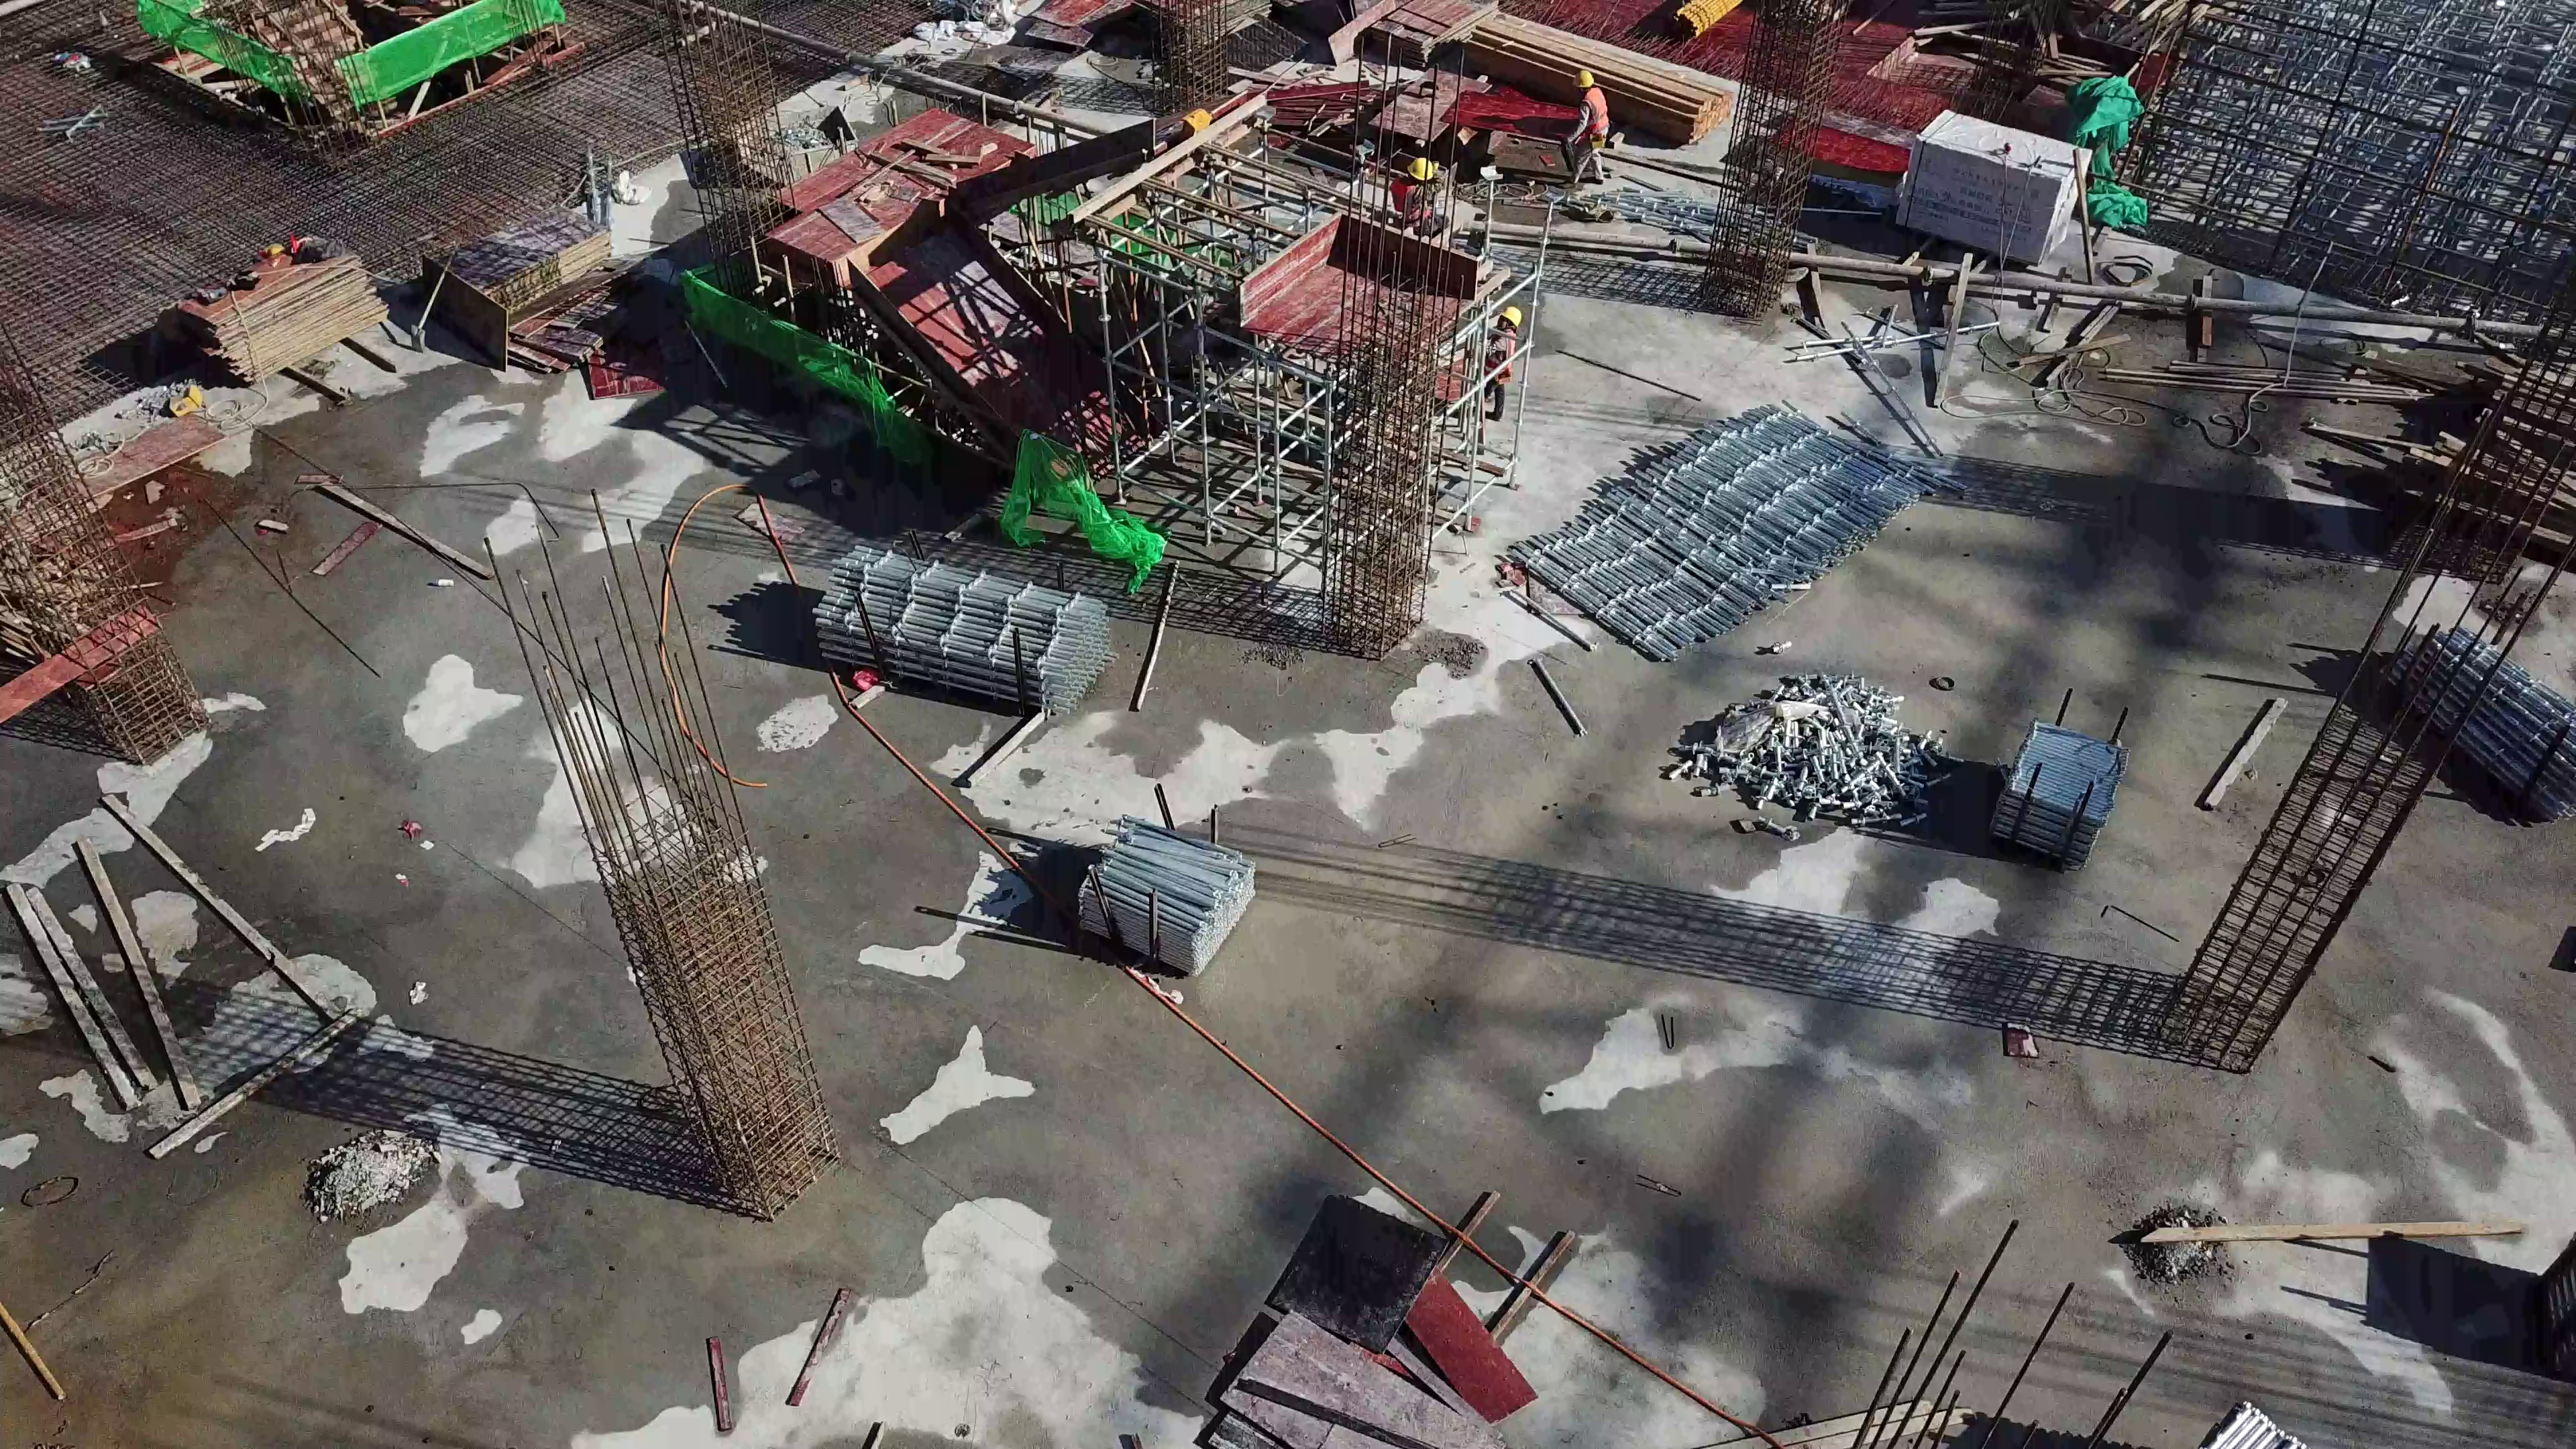board: (166, 246, 385, 407), (429, 211, 618, 377)
person: (1575, 62, 1619, 191), (1388, 150, 1444, 219), (1490, 301, 1525, 409)
scaffold: (1531, 389, 1942, 657), (799, 552, 1111, 730), (1067, 803, 1271, 1002), (2394, 616, 2576, 822), (1989, 721, 2123, 876)
wood: (1476, 9, 1723, 144)
